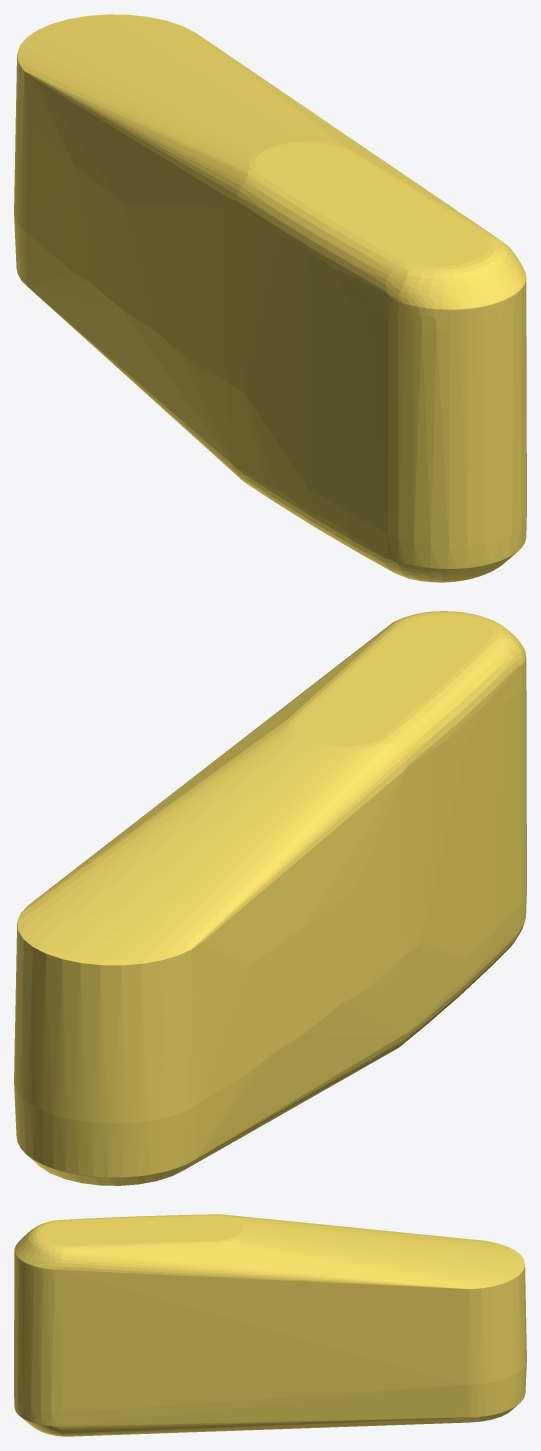
3 renders of one model, top to bottom at view 1: azimuth 30°, elevation 25°; view 2: azimuth 150°, elevation 25°; view 3: azimuth 270°, elevation 25°, orthographic. The views are drawn at different scales.
Parts seen in each view (by area): view 1: link_2.stl; view 2: link_2.stl; view 3: link_2.stl.
Part boxes in pixels (box(x1,y1,x2,y2)): link_2.stl: box(14, 14, 526, 582); link_2.stl: box(14, 611, 526, 1185); link_2.stl: box(14, 1214, 526, 1436).
Size of the model in its own units: 0.1351 by 0.227 by 0.557.
